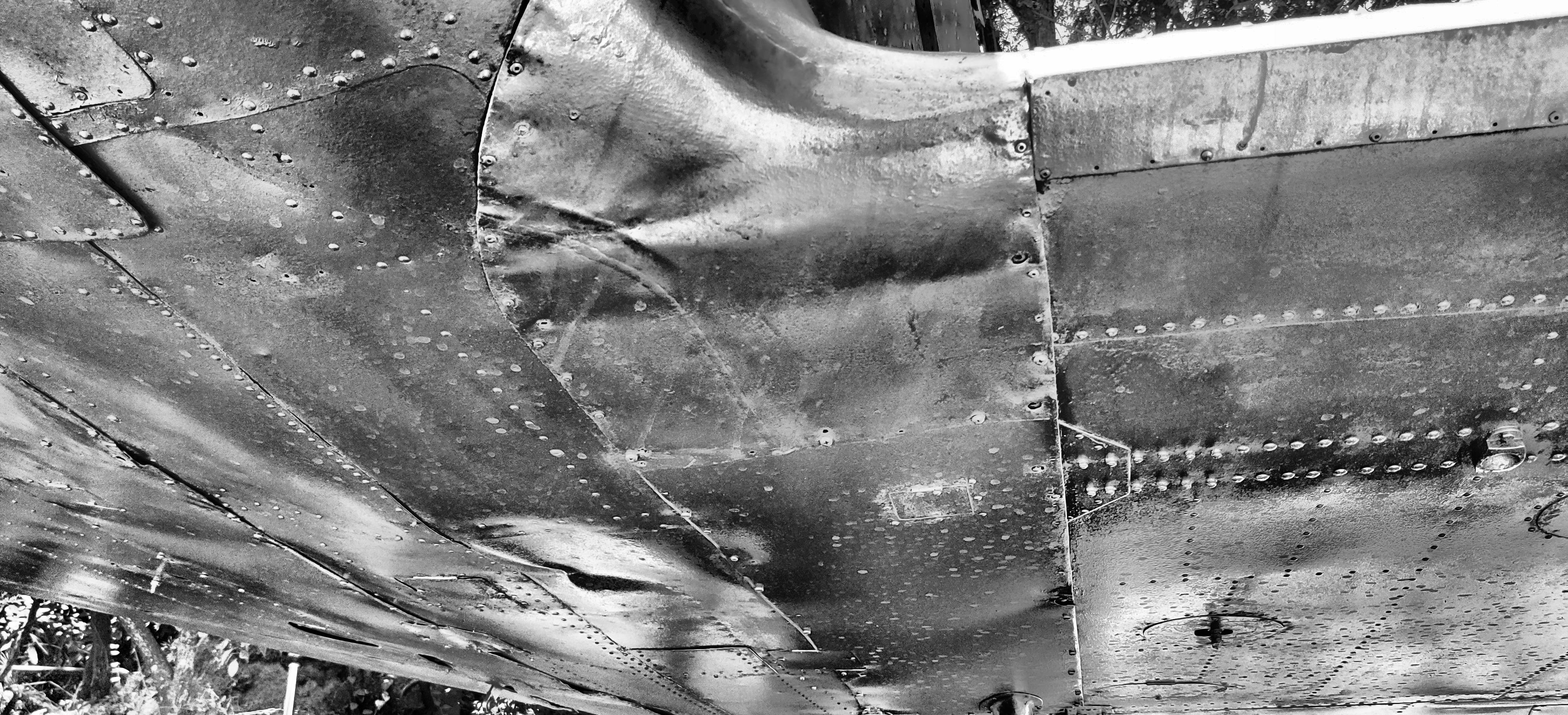crack: (417, 653, 455, 670), (504, 685, 516, 693)
dent: (474, 175, 683, 278), (467, 518, 635, 566), (887, 246, 1041, 298), (55, 414, 155, 471), (544, 562, 676, 596), (687, 533, 765, 585), (512, 4, 570, 55), (998, 584, 1062, 623), (437, 626, 502, 653), (560, 677, 599, 697), (202, 494, 227, 513), (224, 514, 250, 525)
missing-head: (1028, 401, 1043, 412), (1031, 464, 1045, 474), (221, 95, 231, 107), (116, 456, 128, 465), (309, 181, 318, 190), (196, 112, 207, 119), (282, 272, 291, 280), (117, 89, 126, 96), (540, 319, 549, 326), (249, 278, 259, 284), (1, 169, 9, 176), (821, 428, 829, 435), (1049, 454, 1057, 461), (317, 269, 326, 275), (356, 239, 365, 245), (846, 656, 856, 661), (166, 91, 173, 98), (749, 450, 756, 456), (1094, 164, 1100, 171), (1149, 159, 1156, 165), (1431, 129, 1438, 135), (899, 428, 905, 434), (1316, 140, 1322, 146), (1260, 146, 1266, 152), (1054, 519, 1060, 525), (1044, 90, 1051, 95), (1492, 122, 1498, 127), (1052, 502, 1058, 507), (1053, 546, 1059, 550)
